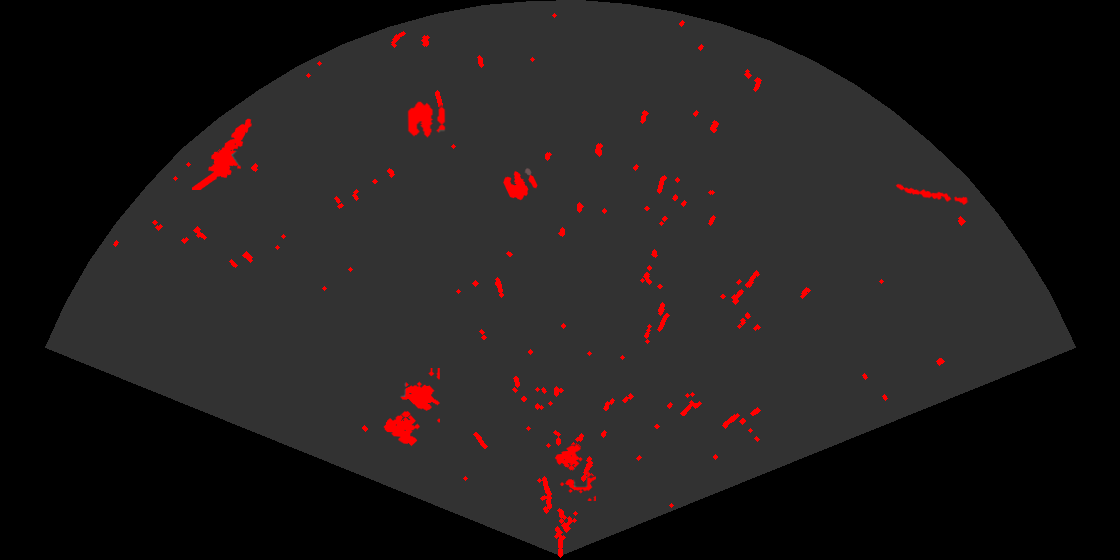ball: (406, 100, 447, 139), (502, 167, 539, 202)
cage: (382, 368, 440, 448), (553, 443, 596, 501)
chain: (894, 182, 969, 207)
frogman: (192, 117, 253, 190)
